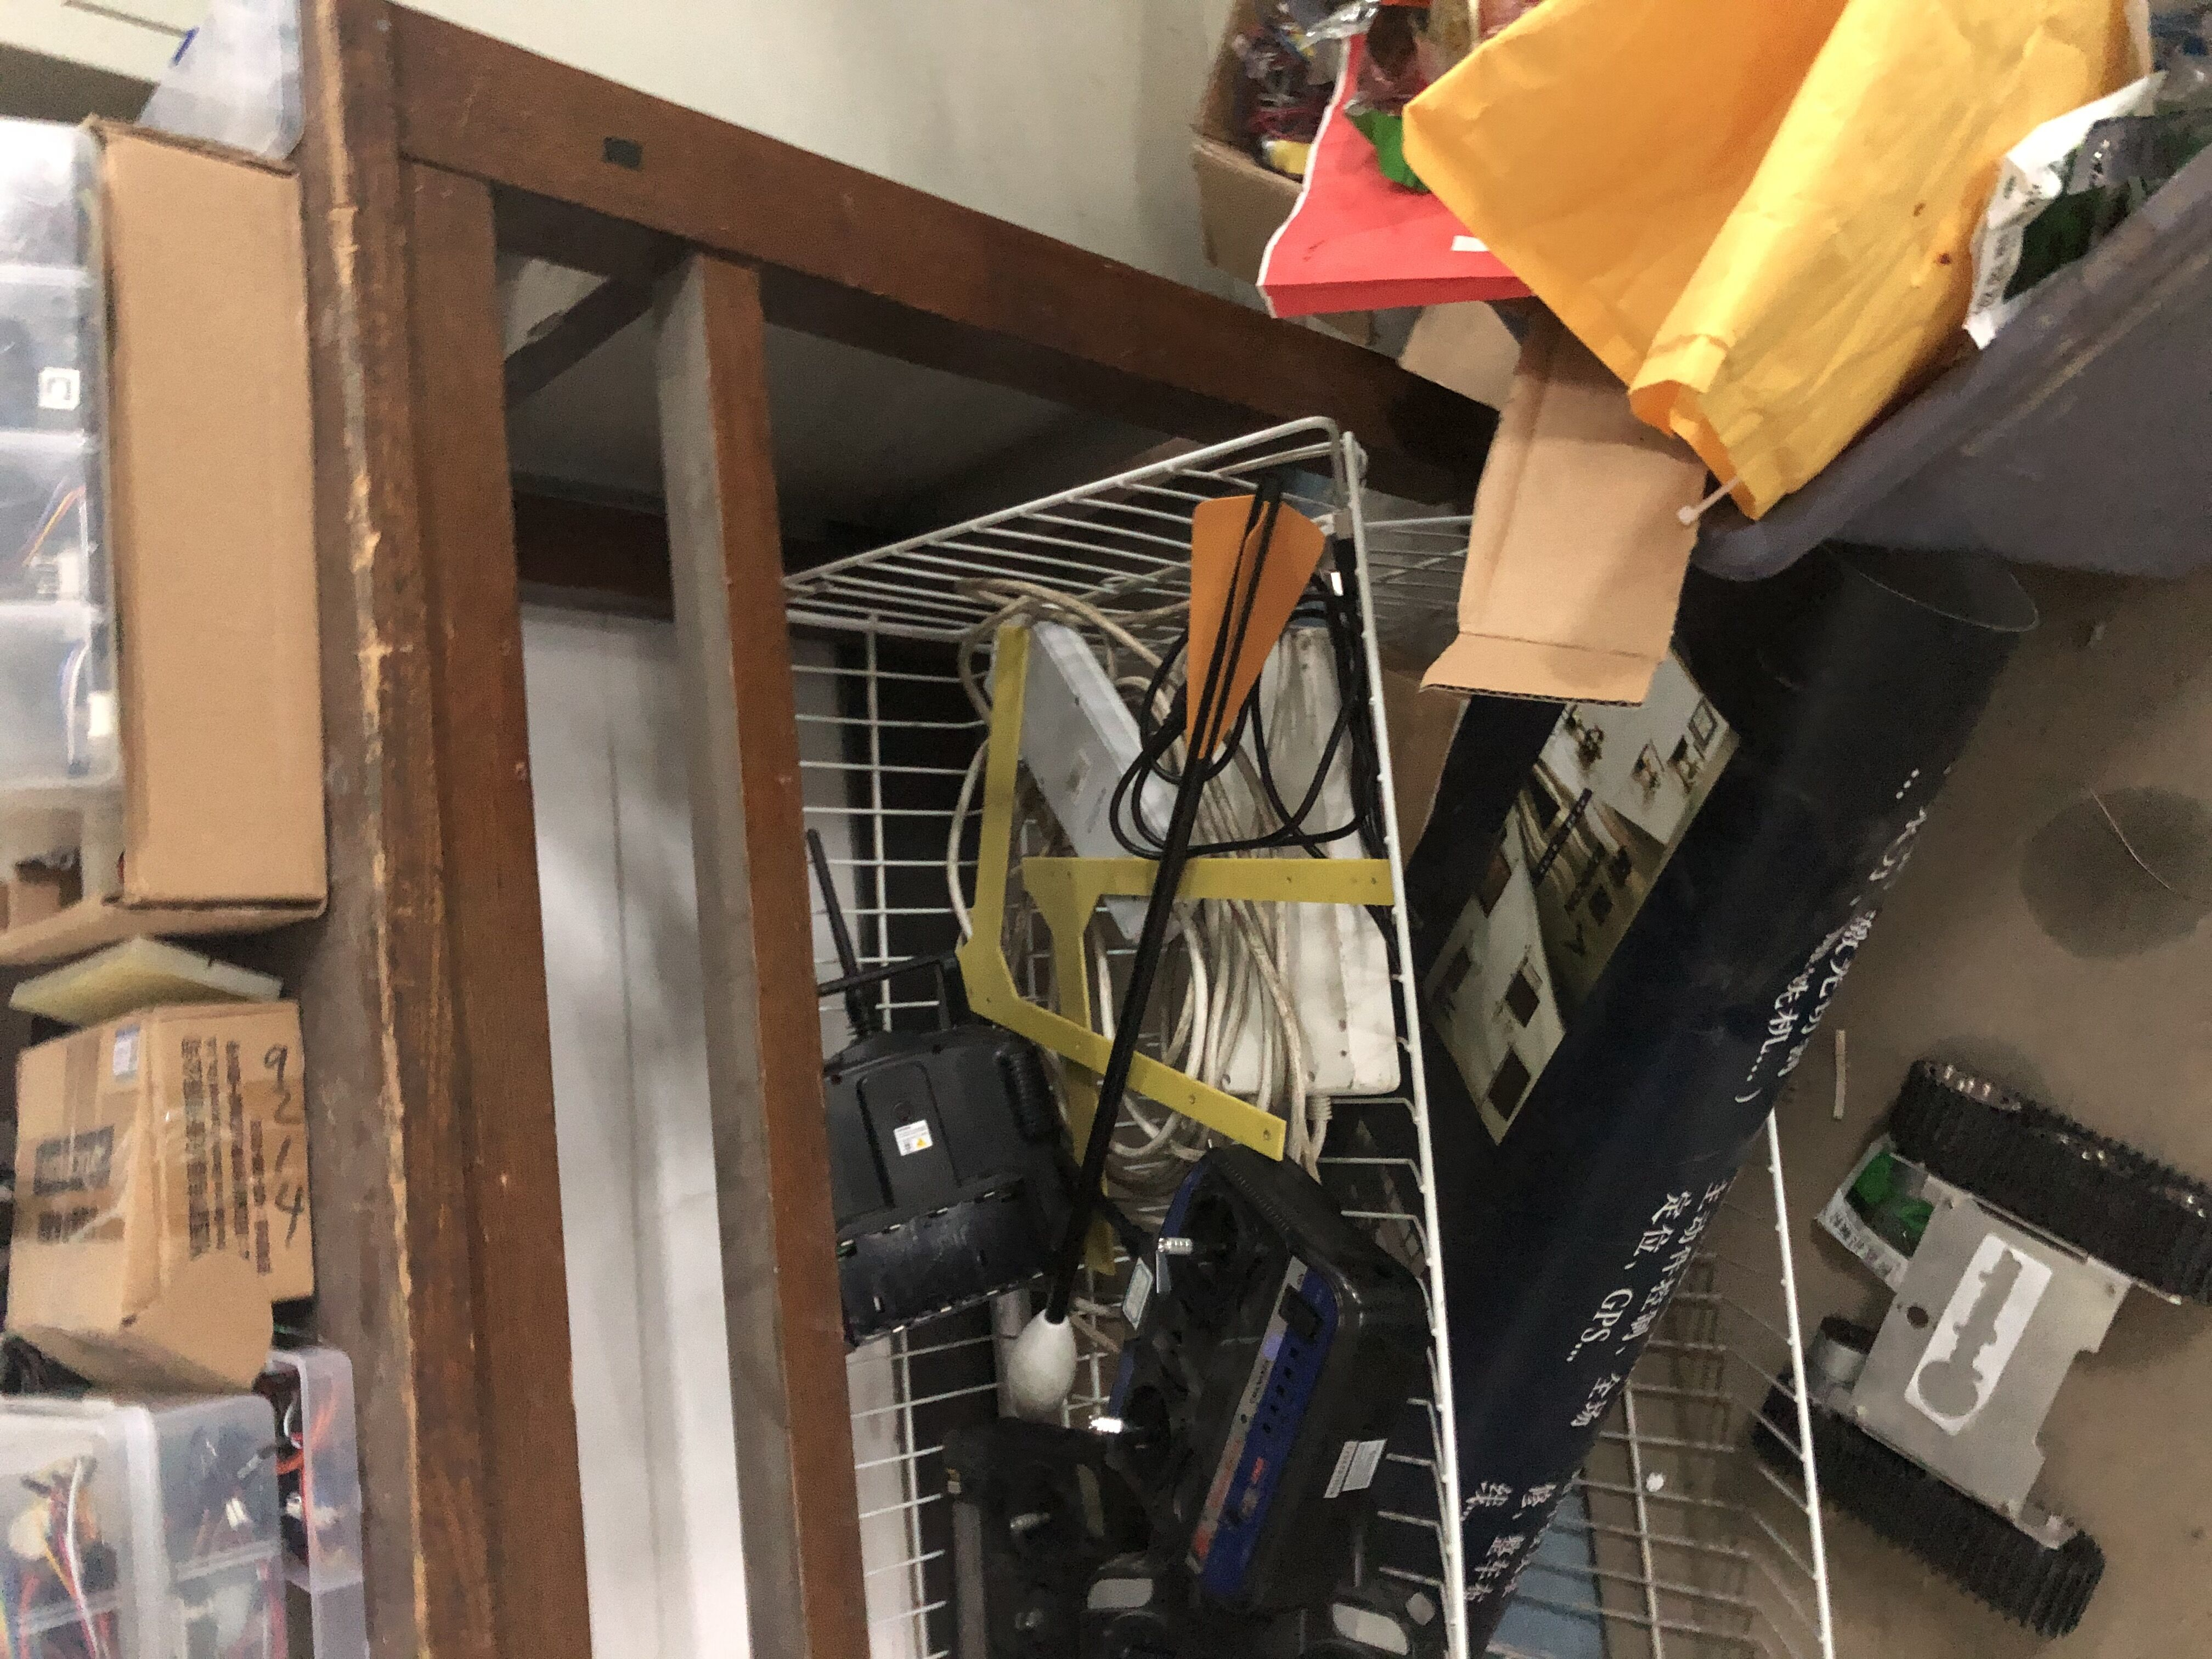arrow: (1001, 471, 1331, 1420)
arrowFront: (1001, 1309, 1078, 1415)
